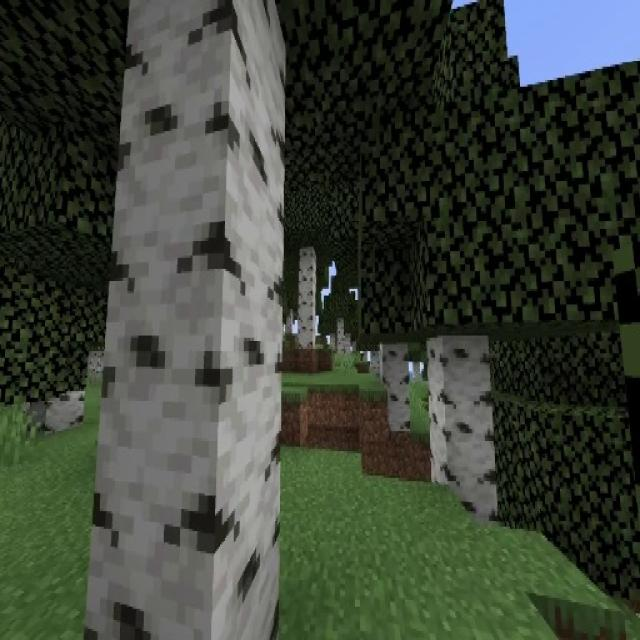birch: (351, 0, 640, 528), (334, 216, 464, 432), (264, 157, 344, 346), (323, 277, 358, 354)
birch_log: (86, 0, 284, 640), (427, 335, 498, 519), (26, 384, 84, 434), (380, 343, 410, 430), (298, 252, 316, 348), (90, 352, 104, 377), (337, 320, 344, 354), (370, 351, 379, 376), (286, 310, 293, 332), (413, 362, 420, 382), (344, 334, 350, 354), (330, 334, 335, 348)
